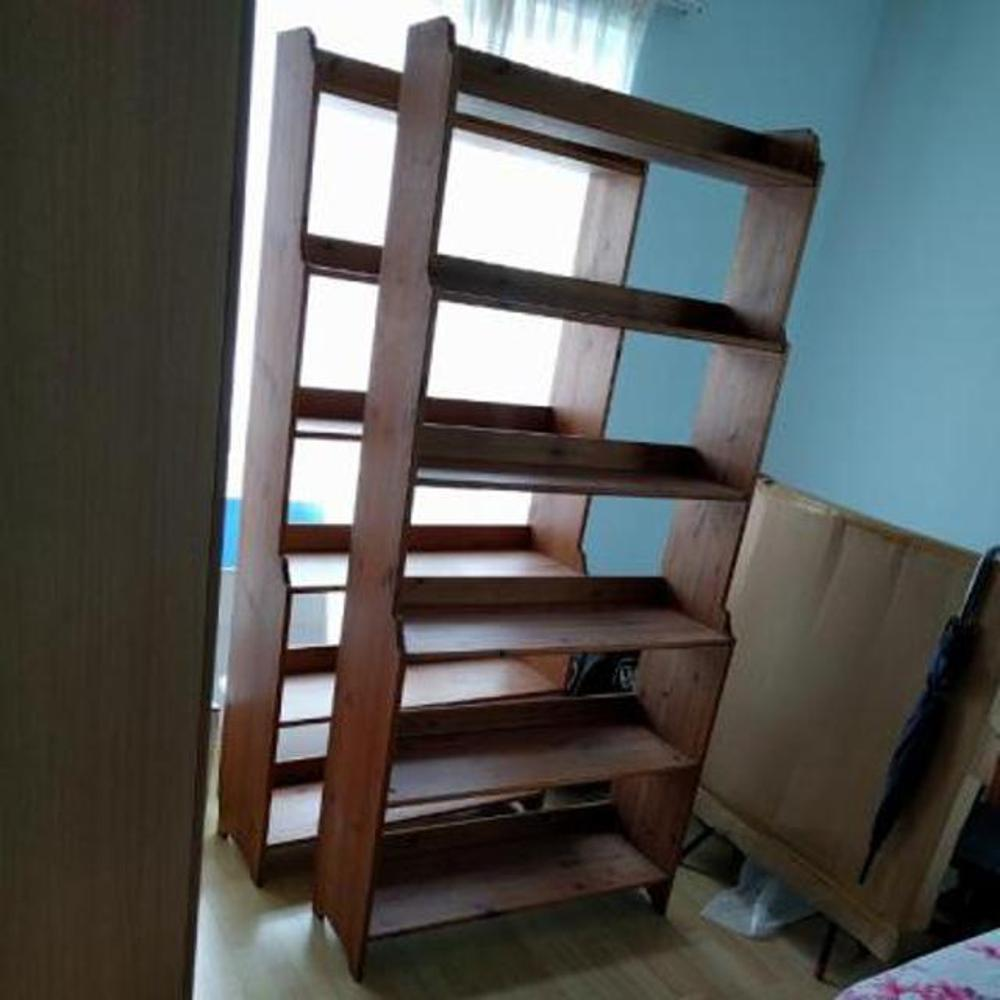lamp: (308, 14, 829, 991), (213, 28, 657, 900)
